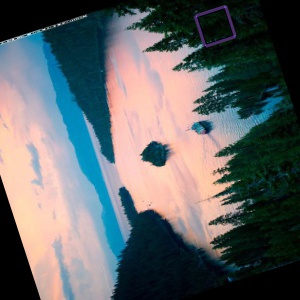square: (191, 4, 242, 49)
